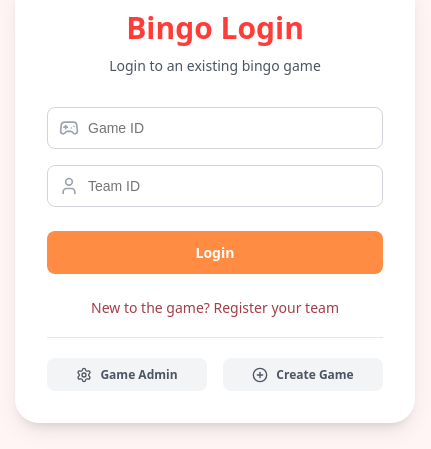
Test: Auth › handles team registration success
Click the button "New to the game? Register your team" at point(215, 308), box [91,298,339,317]
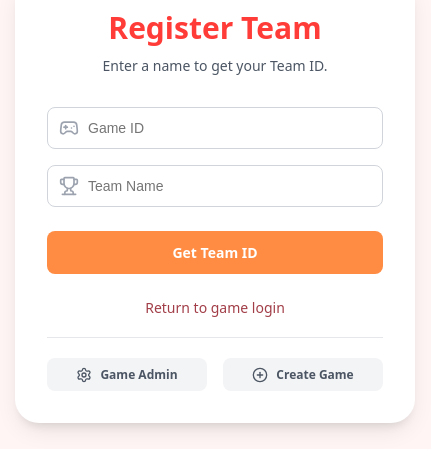
Type "GAME12" into the field with placeholder "Game ID" at point(215, 128), box [47,107,383,149]
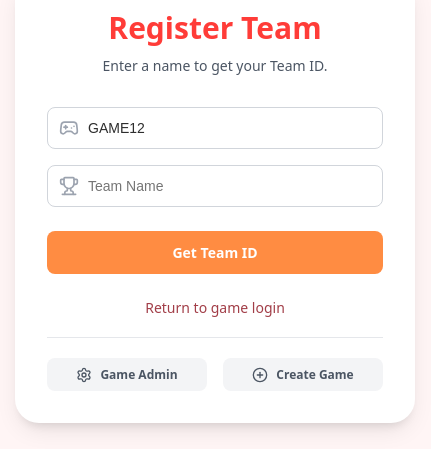
Type "Cool Team" into the field with placeholder "Team Name" at point(215, 186), box [47,165,383,207]
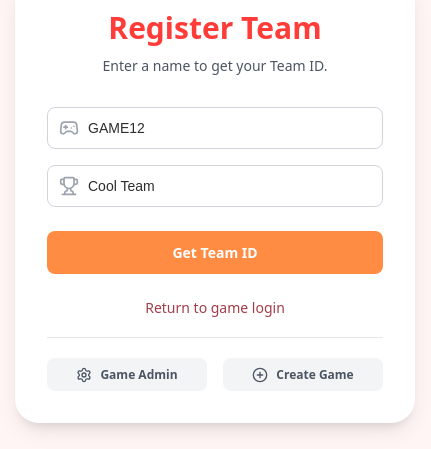
Click the button "Get Team ID" at point(215, 252), box [47,231,383,274]
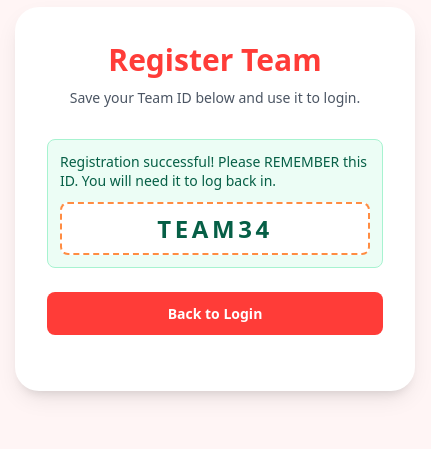
Result: the text "Registration successful" is shown at [60,152,367,190]
Result: the text "TEAM34" is shown at [60,202,370,255]
